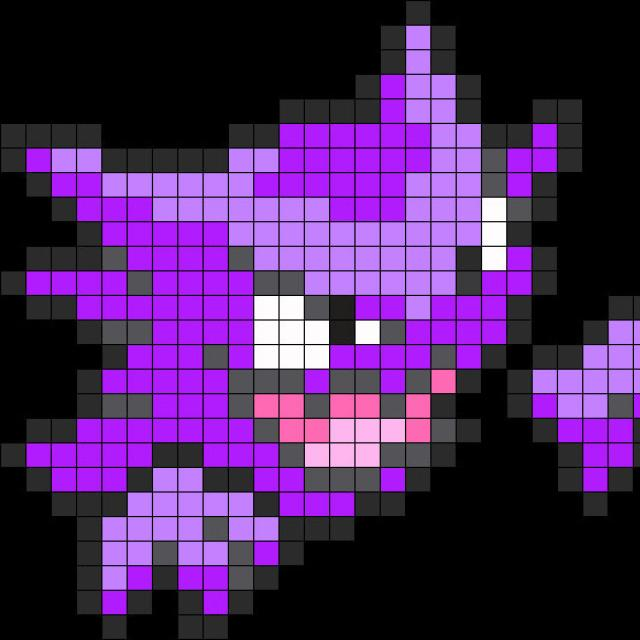Haunter: (0, 6, 640, 639)
